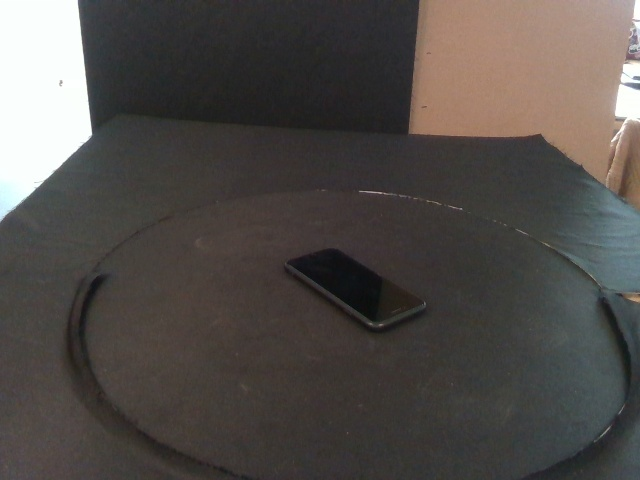phone: (284, 246, 427, 333)
